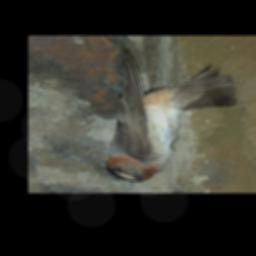Swallow: (104, 44, 238, 182)
